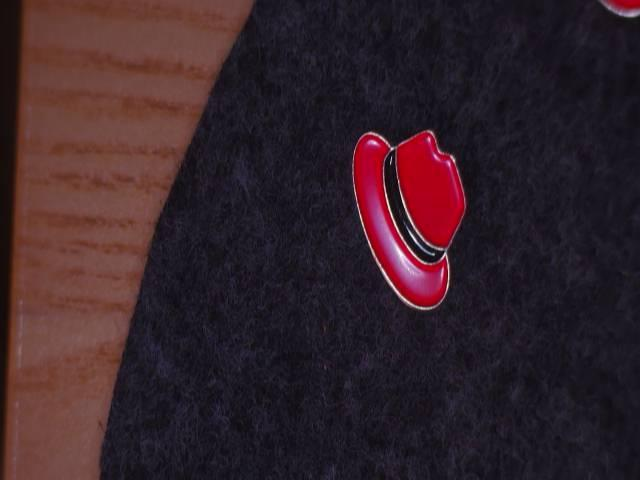Red-Hat: (317, 102, 502, 340)
